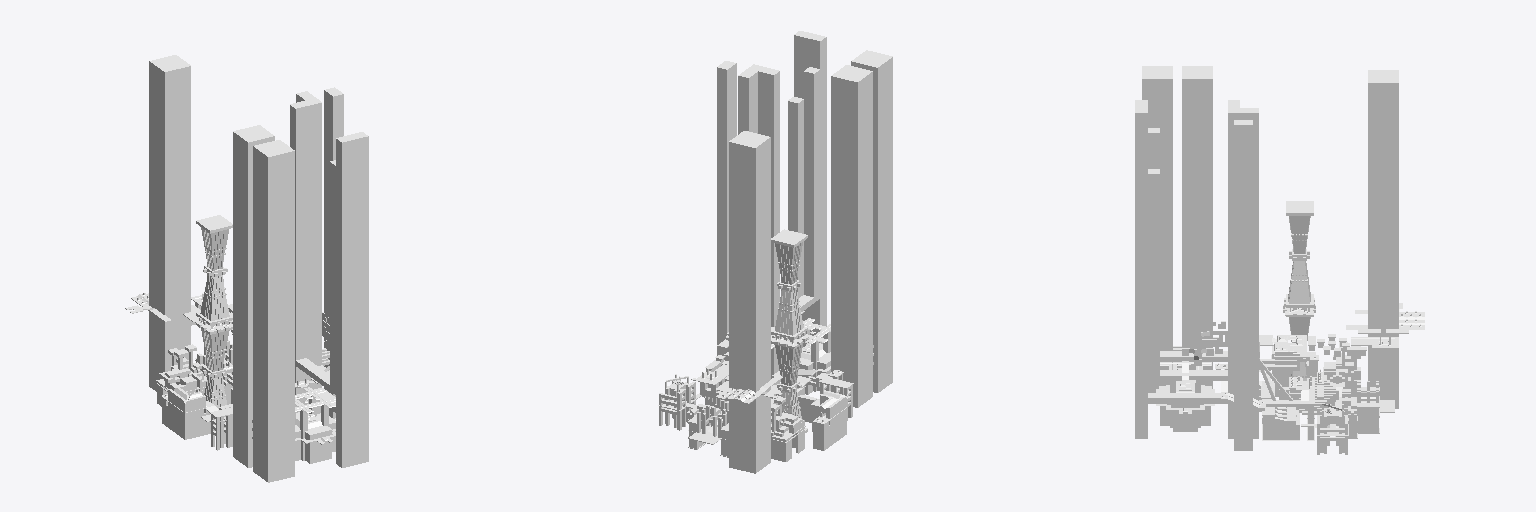
File: MB-Megas.obj
3 renders of one model, left to right at view 1: azimuth 30°, elevation 25°; view 2: azimuth 150°, elevation 25°; view 3: azimuth 270°, elevation 25°, orthographic.
Bounding box in the file's own units: 114 × 233 × 188.